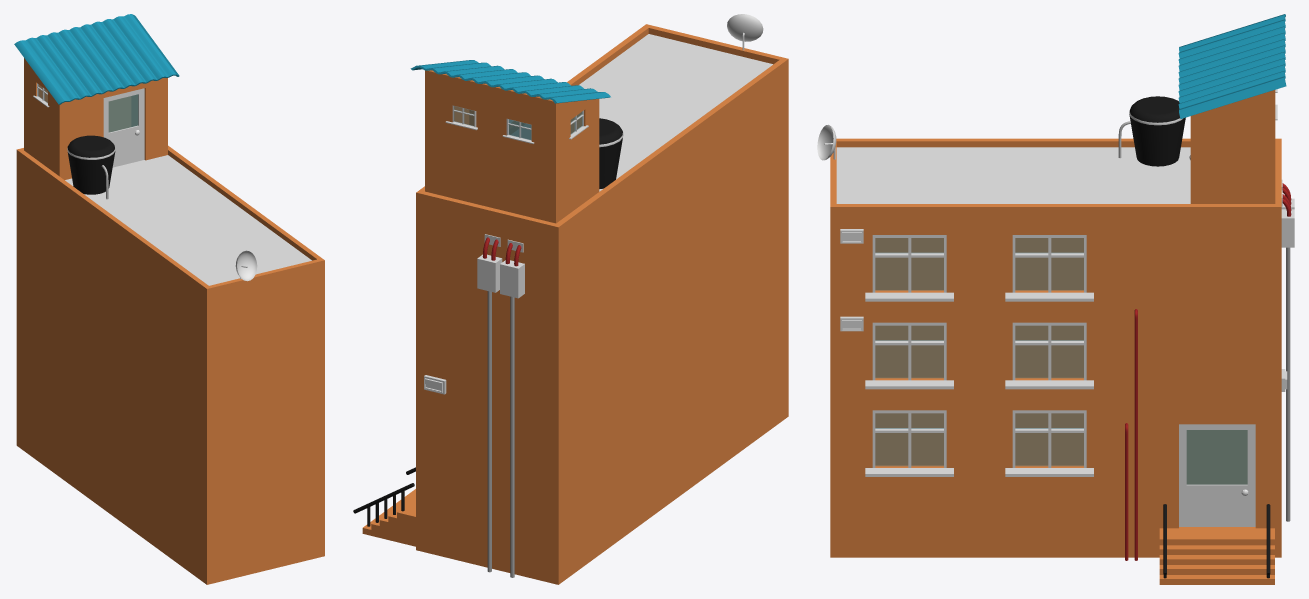
Rendered from House8.fbx.
The picture shows the model from 3 angles, left to right: view 1: azimuth 30°, elevation 25°; view 2: azimuth 150°, elevation 25°; view 3: azimuth 270°, elevation 25°; orthographic projection. The views are drawn at different scales.
Visible parts, largest first — view 1: pCube71, House7:polySurface6, House7:polySurface1, pCube74, pCylinder13, House7:House6:pCylinder40; view 2: pCube71, House7:polySurface1, House7:polySurface6, House6:pCube70, pCylinder15, pCylinder16, pCylinder13, pCube75, House7:House6:pCylinder40, pCube76; view 3: pCube71, House7:polySurface1, pCube69, House7:polySurface6, House6:pCube70, polySurface15, polySurface17, House7:House6:polySurface12, polySurface16, polySurface13, polySurface14, pCylinder13 (+2 smaller).
Boxes of the visible parts, x1,y1,x2,y2 form: pCube71: [16, 145, 324, 584]; House7:polySurface6: [14, 14, 179, 104]; House7:polySurface1: [24, 58, 167, 179]; pCube74: [103, 88, 144, 167]; pCylinder13: [67, 135, 115, 199]; House7:House6:pCylinder40: [235, 250, 257, 281]; pCube71: [416, 24, 788, 584]; House7:polySurface1: [425, 70, 599, 223]; House7:polySurface6: [410, 60, 610, 103]; House6:pCube70: [353, 467, 415, 546]; pCylinder15: [510, 296, 514, 577]; pCylinder16: [487, 291, 491, 572]; pCylinder13: [599, 118, 623, 188]; pCube75: [500, 260, 524, 298]; House7:House6:pCylinder40: [727, 14, 763, 50]; pCube76: [477, 254, 502, 292]; pCube71: [830, 138, 1281, 557]; House7:polySurface1: [1190, 90, 1275, 203]; pCube69: [1179, 424, 1255, 526]; House7:polySurface6: [1178, 14, 1286, 118]; House6:pCube70: [1159, 504, 1274, 584]; polySurface15: [1005, 322, 1093, 389]; polySurface17: [865, 322, 953, 389]; House7:House6:polySurface12: [865, 235, 953, 301]; polySurface16: [1005, 235, 1093, 301]; polySurface13: [865, 410, 953, 476]; polySurface14: [1005, 410, 1093, 476]; pCylinder13: [1118, 96, 1185, 166].
Bounding box in the file's own units: 7.46 × 16.34 × 14.8.
